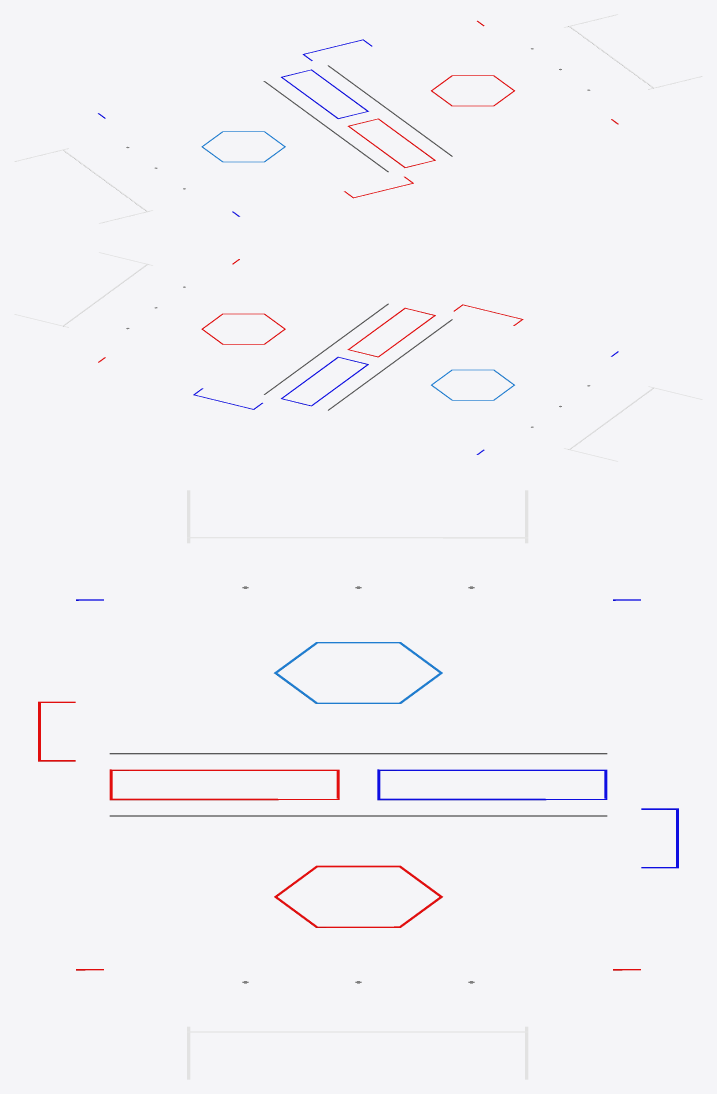
File: Tape.fbx
3 views of the same model, one above another, from view 1: azimuth 30°, elevation 25°; view 2: azimuth 150°, elevation 25°; view 3: azimuth 270°, elevation 25° (orthographic). The views are drawn at different scales.
Visible parts, largest first — view 1: no part large enough to name; view 2: no part large enough to name; view 3: tape_AutoLine.001, tape_AutoLine, tape_goal.001, tape_goal.
Part boxes in pixels (x1,y1,x2,y2): tape_AutoLine.001: [109, 815, 607, 816]; tape_AutoLine: [109, 753, 607, 754]; tape_goal.001: [274, 865, 442, 927]; tape_goal: [274, 642, 442, 703].
Size of the model in its own units: 2256 by 0.5081 by 1037.
